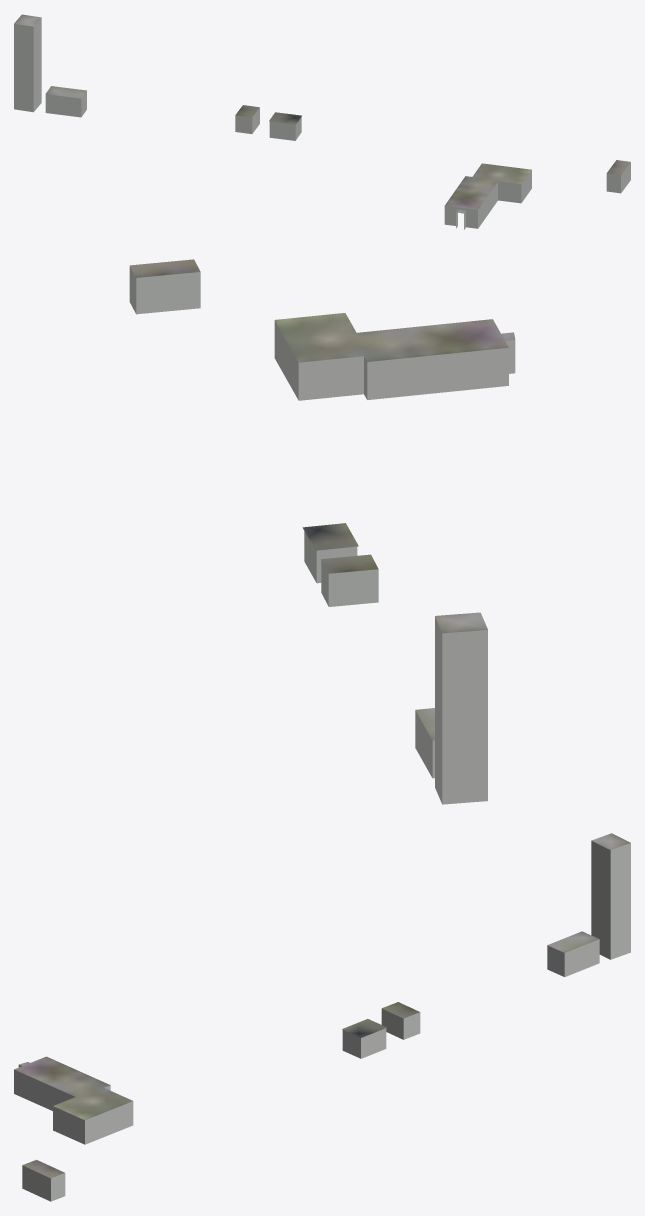
Rendered from LSGG_-2_0.glb.
The picture shows the model from 3 angles, top to bottom: view 1: azimuth 30°, elevation 25°; view 2: azimuth 150°, elevation 25°; view 3: azimuth 270°, elevation 25°; orthographic projection. The views are drawn at different scales.
Parts seen in each view (by area): view 1: building_571ac31e661dcb51, building_196b02ee27364b14, building_c1493e24a1905fae, building_1cf6748b086803a4; view 2: building_196b02ee27364b14, building_c1493e24a1905fae, building_571ac31e661dcb51, building_1cf6748b086803a4; view 3: building_196b02ee27364b14, building_571ac31e661dcb51, building_c1493e24a1905fae, building_1cf6748b086803a4.
Boxes of the visible parts, <box> form: building_571ac31e661dcb51: <box>14,18,86,117</box>; building_196b02ee27364b14: <box>235,107,630,229</box>; building_c1493e24a1905fae: <box>235,105,630,213</box>; building_1cf6748b086803a4: <box>14,14,86,98</box>; building_196b02ee27364b14: <box>129,266,515,606</box>; building_c1493e24a1905fae: <box>129,259,515,573</box>; building_571ac31e661dcb51: <box>415,617,487,804</box>; building_1cf6748b086803a4: <box>415,612,487,740</box>; building_196b02ee27364b14: <box>14,1009,420,1201</box>; building_571ac31e661dcb51: <box>547,841,630,976</box>; building_c1493e24a1905fae: <box>14,1002,419,1178</box>; building_1cf6748b086803a4: <box>547,833,630,952</box>.
Size of the model in its own units: 162 by 36.18 by 169.
2 materials, 1 textured.
